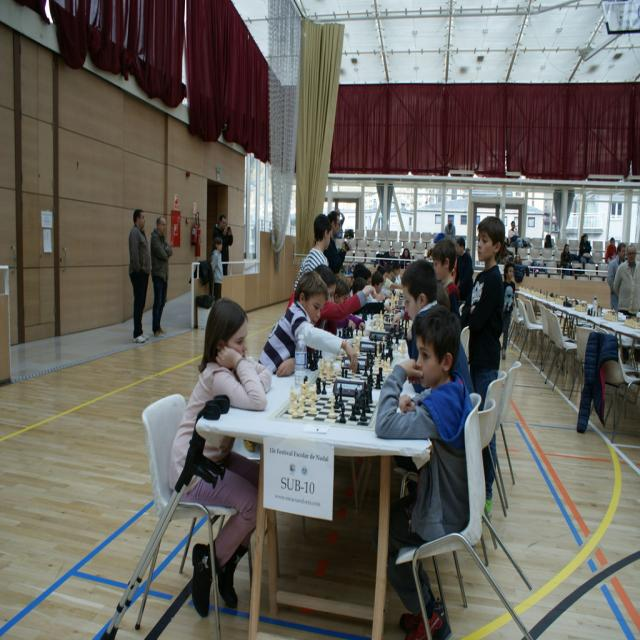chair: (403, 395, 518, 639), (130, 395, 246, 636), (486, 363, 520, 508), (540, 305, 580, 394), (610, 335, 640, 437), (516, 296, 544, 368)
desk: (196, 332, 432, 639)
person: (168, 297, 273, 620), (374, 307, 476, 573), (258, 271, 360, 377), (460, 217, 506, 402), (296, 212, 346, 291), (128, 208, 151, 341), (150, 214, 172, 334), (612, 245, 640, 314), (210, 237, 224, 303)
